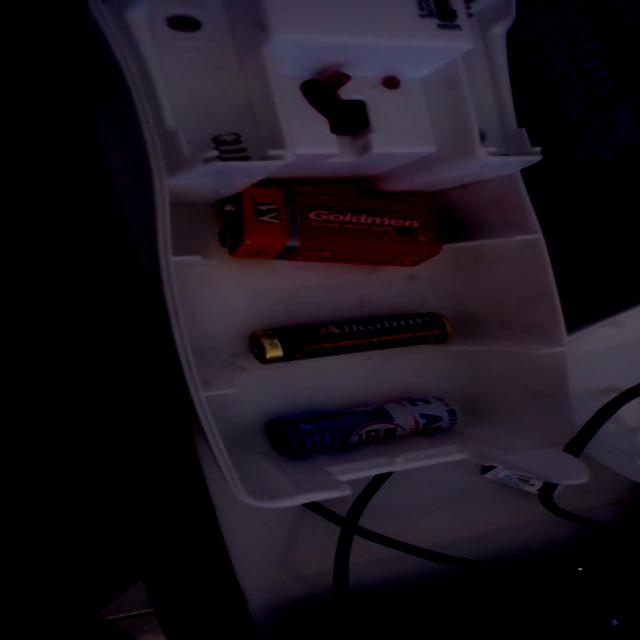9V: (206, 172, 459, 282)
AA: (253, 390, 474, 464)
AAA: (223, 298, 469, 377)
